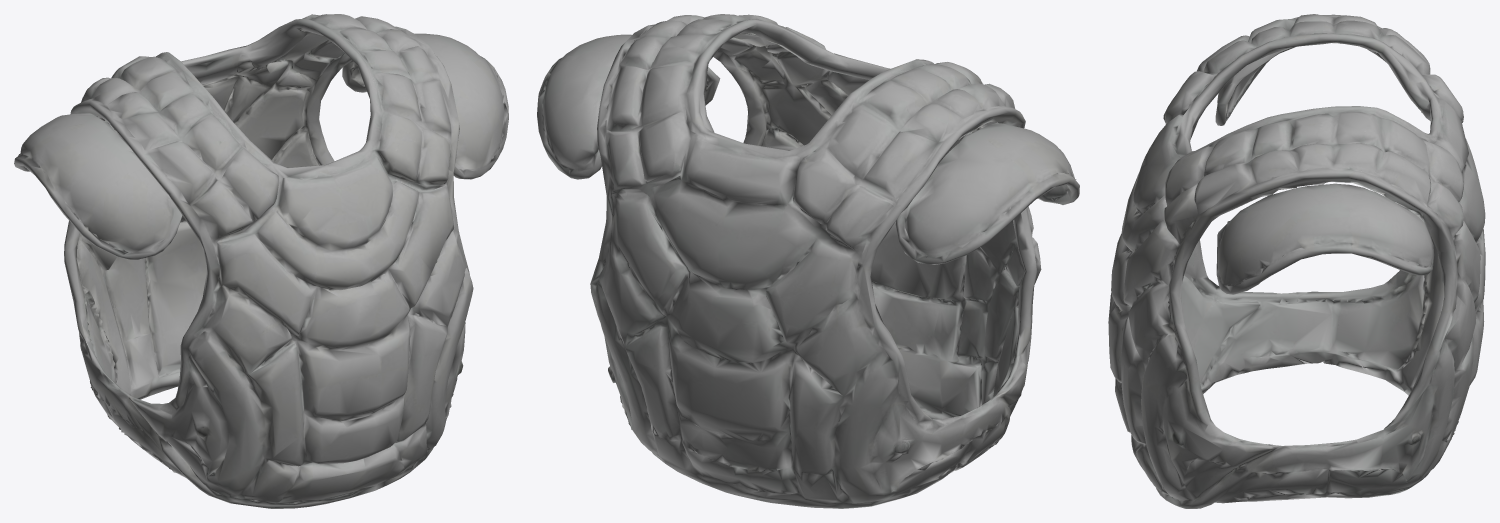
File: chest_protector.glb
The picture shows the model from 3 angles, left to right: view 1: azimuth 30°, elevation 25°; view 2: azimuth 150°, elevation 25°; view 3: azimuth 270°, elevation 25°; orthographic projection. The views are drawn at different scales.
Bounding box in the file's own units: 1.9 × 1.56 × 1.33.
1 material, 1 textured.
